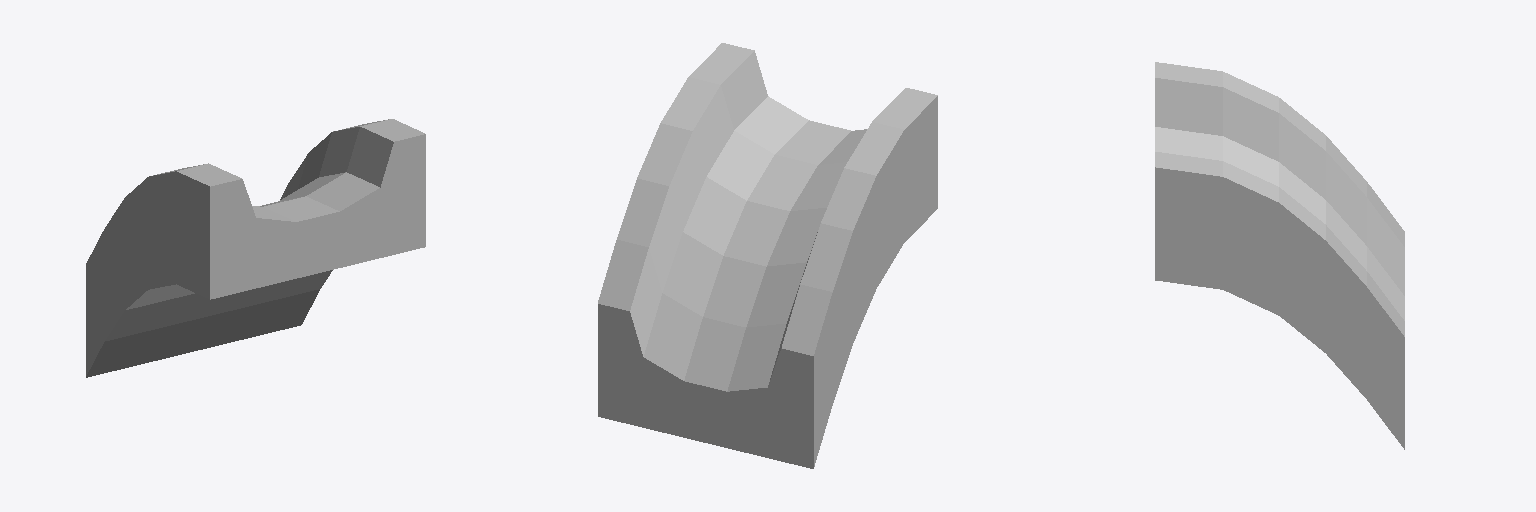
File: ramp-end-d.obj
3 views of the same model, side by side, from view 1: azimuth 30°, elevation 25°; view 2: azimuth 150°, elevation 25°; view 3: azimuth 270°, elevation 25° (orthographic).
Parts seen in each view (by area): view 1: ramp-end-d; view 2: ramp-end-d; view 3: ramp-end-d.
Part boxes in pixels (bbox=[...]): ramp-end-d: bbox=[86, 119, 425, 377]; ramp-end-d: bbox=[598, 43, 937, 468]; ramp-end-d: bbox=[1155, 62, 1404, 449].
Size of the model in its own units: 1 by 1.25 by 1.